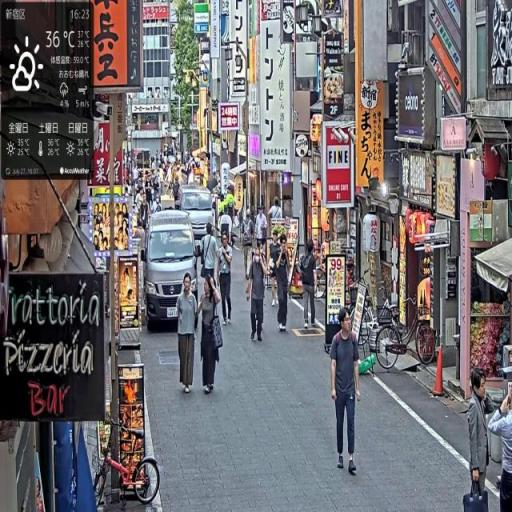person: (331, 308, 364, 476), (195, 271, 225, 397), (468, 368, 495, 507), (177, 272, 199, 397), (247, 242, 269, 343), (216, 229, 235, 325), (274, 236, 292, 335), (301, 241, 320, 330), (200, 220, 221, 294), (242, 208, 256, 287)
